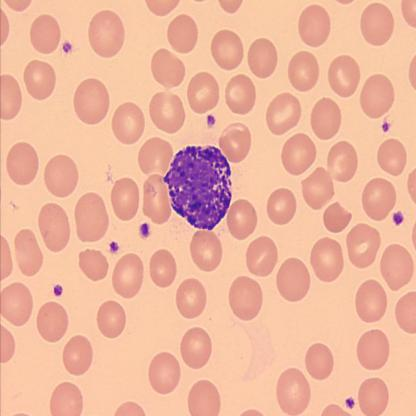Basophil: (161, 140, 236, 234)
